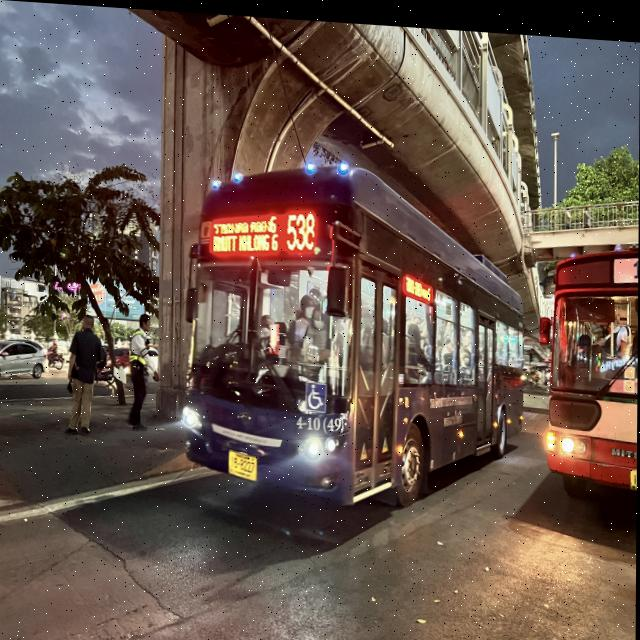BMTA-bus: (542, 221, 639, 489)
Bus-Line-Number: (282, 204, 319, 250)
Destination-Sign-Normal: (208, 204, 280, 258)
TSB-Bus: (180, 152, 526, 517)
